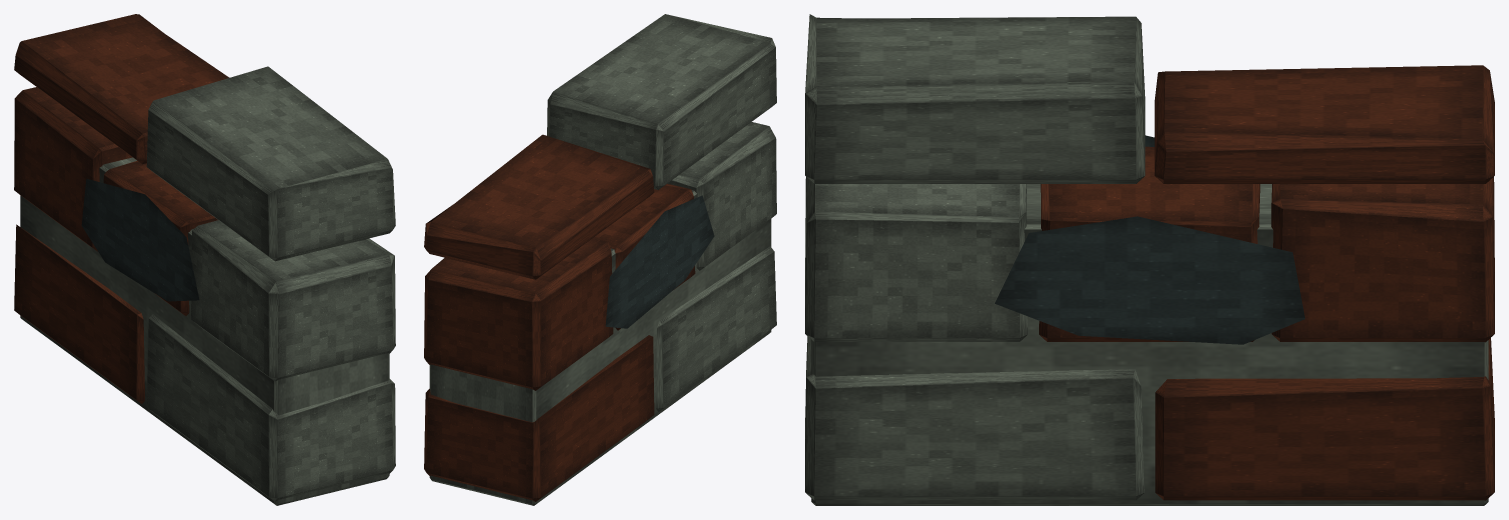
File: THStage_RearRoomDivider.fbx
The picture shows the model from 3 angles, left to right: view 1: azimuth 30°, elevation 25°; view 2: azimuth 150°, elevation 25°; view 3: azimuth 270°, elevation 25°; orthographic projection. The views are drawn at different scales.
Parts seen in each view (by area): view 1: THStage_RearRoomDivider.029; view 2: THStage_RearRoomDivider.029; view 3: THStage_RearRoomDivider.029.
Boxes of the visible parts, left/top/right/bottom form: THStage_RearRoomDivider.029: left=14, top=14, right=395, bottom=505; THStage_RearRoomDivider.029: left=424, top=14, right=776, bottom=505; THStage_RearRoomDivider.029: left=805, top=14, right=1494, bottom=505.
Size of the model in its own units: 0.258 by 0.6196 by 0.908.
Materials: 1 (1 with a texture image).
